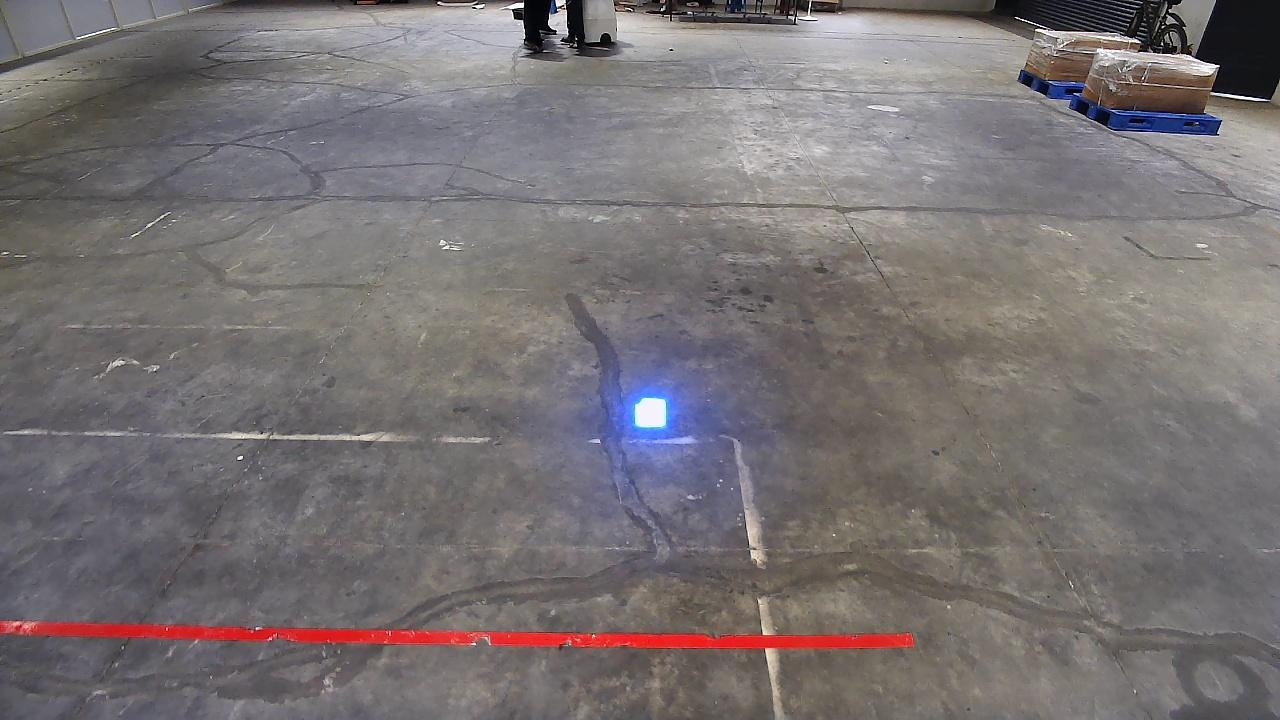red_line: (1, 620, 919, 646)
